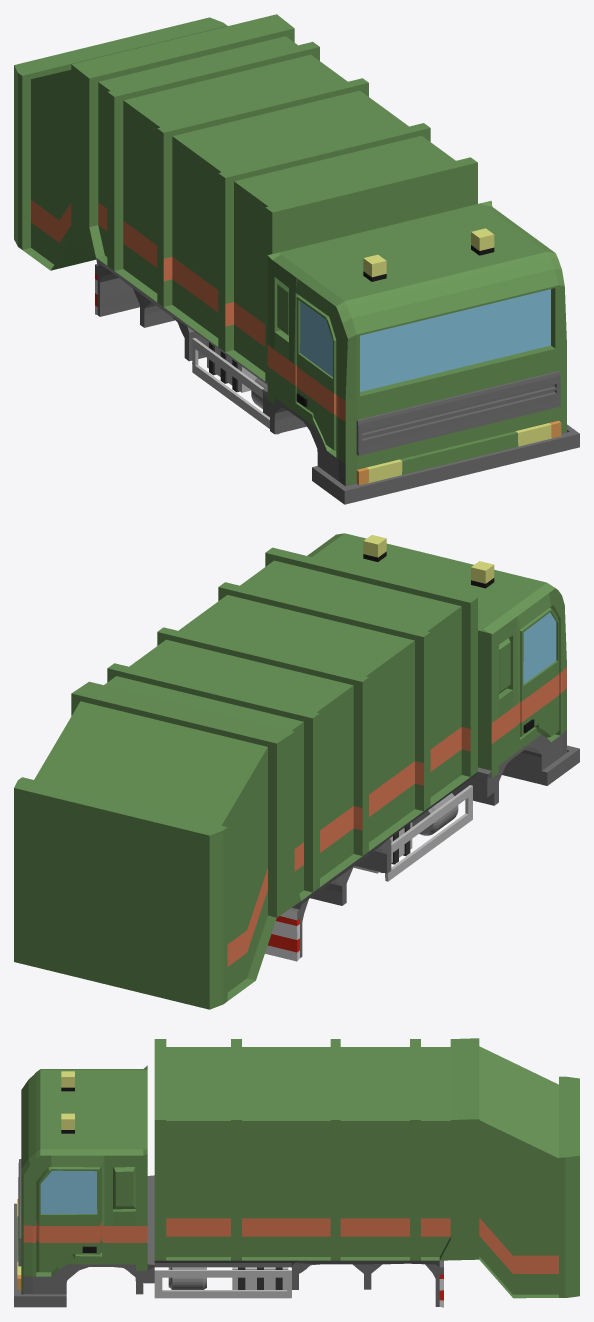
Rendered from Mysorovoz`.fbx.
The picture shows the model from 3 angles, top to bottom: view 1: azimuth 30°, elevation 25°; view 2: azimuth 150°, elevation 25°; view 3: azimuth 270°, elevation 25°; orthographic projection. The views are drawn at different scales.
Parts seen in each view (by area): view 1: musor; view 2: musor; view 3: musor.
Boxes of the visible parts, <box> form: musor: <box>14,14,579,504</box>; musor: <box>14,533,579,1009</box>; musor: <box>14,1038,579,1307</box>.
Size of the model in its own units: 239 by 227 by 616.
